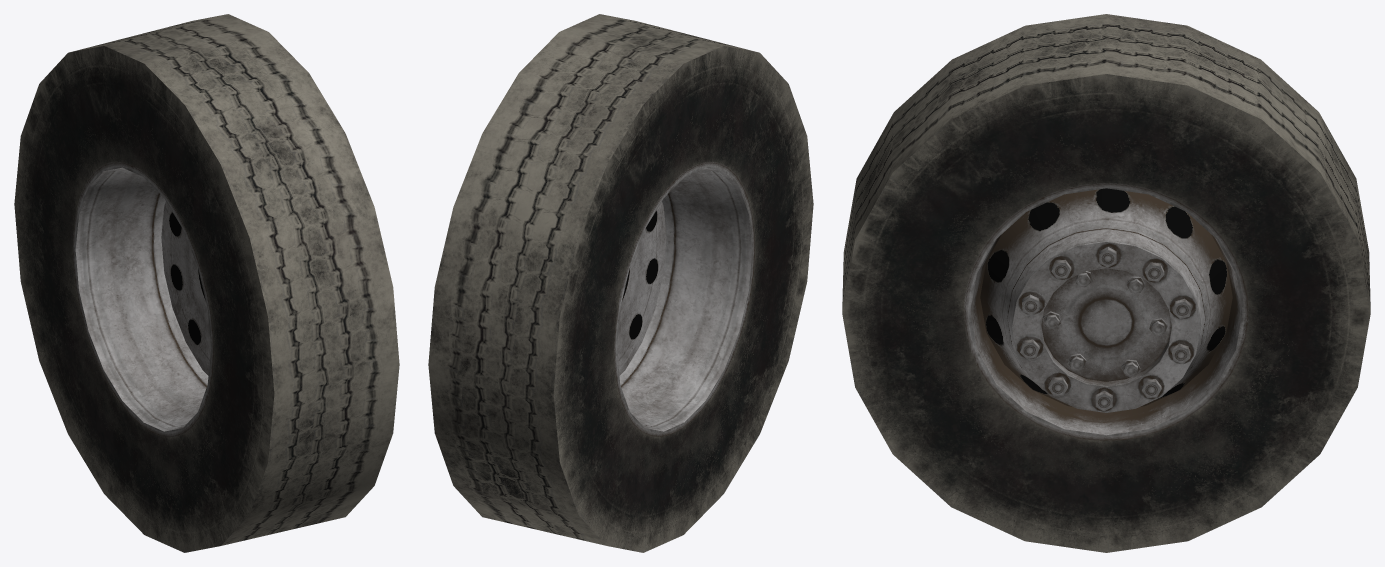
Rendered from Truck_tyre_01a_snaps011.fbx.
3 views of the same model, side by side, from view 1: azimuth 30°, elevation 25°; view 2: azimuth 150°, elevation 25°; view 3: azimuth 270°, elevation 25° (orthographic).
Parts seen in each view (by area): view 1: Truck_tyre_01a_snaps0011_LOD0; view 2: Truck_tyre_01a_snaps0011_LOD0; view 3: Truck_tyre_01a_snaps0011_LOD0.
Part boxes in pixels (bbox=[...]): Truck_tyre_01a_snaps0011_LOD0: bbox=[14, 14, 399, 552]; Truck_tyre_01a_snaps0011_LOD0: bbox=[428, 14, 813, 552]; Truck_tyre_01a_snaps0011_LOD0: bbox=[842, 14, 1370, 552].
Size of what is drawn, in the model's own units: 40.34 by 114 by 114.
